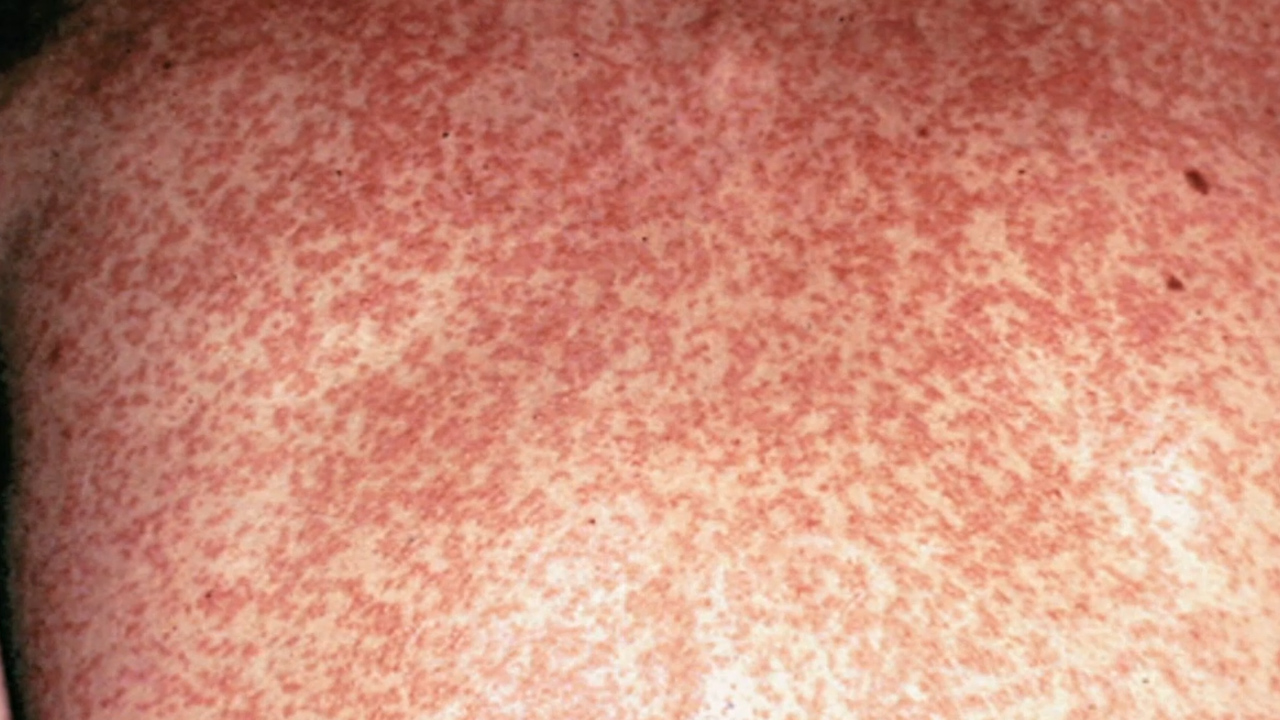Measles: (213, 85, 1153, 690)
